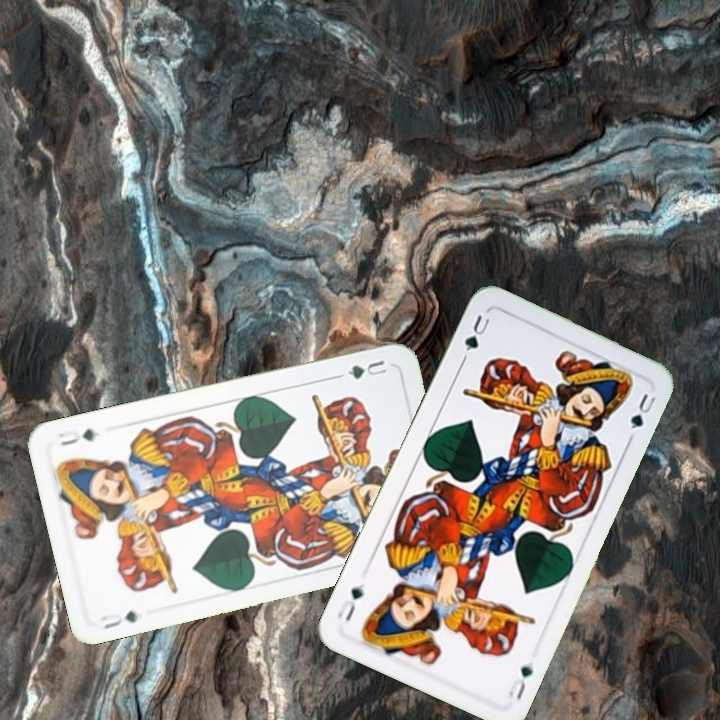GU: (458, 310, 492, 363), (504, 657, 536, 703), (343, 356, 390, 382), (97, 606, 141, 632)
